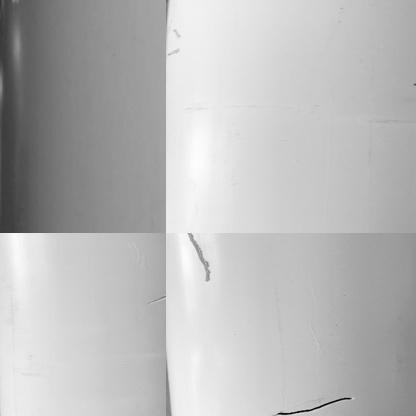sunshang: (270, 395, 357, 416), (182, 234, 213, 285)
